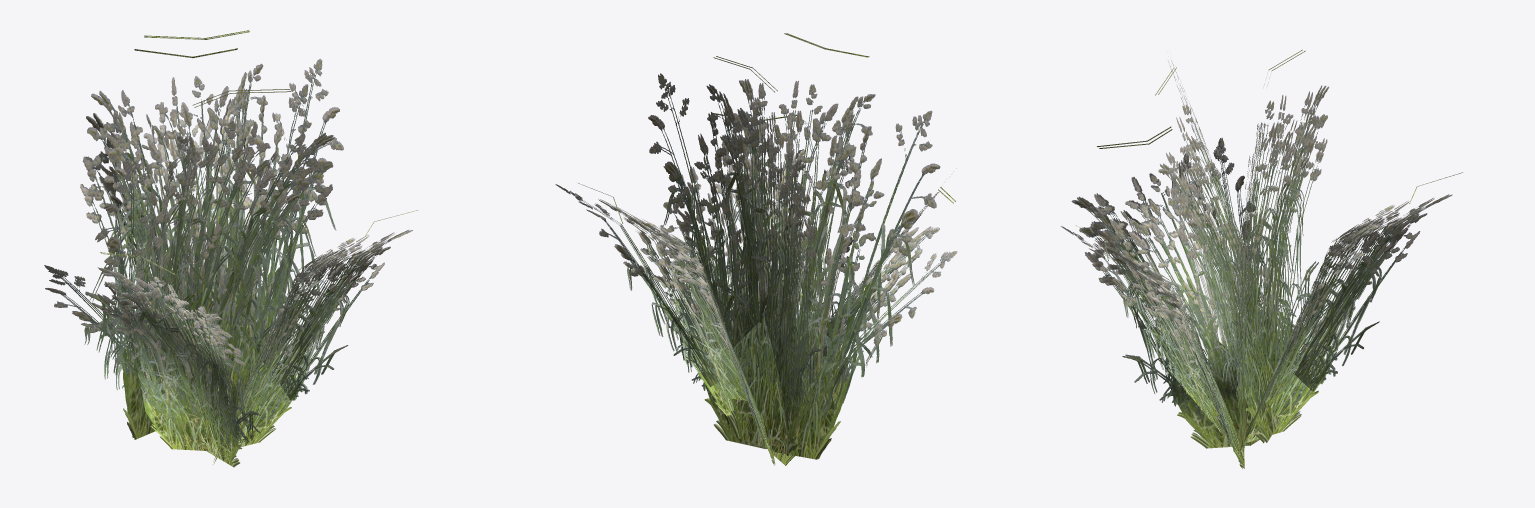
Rendered from grassweed06.fbx.
The picture shows the model from 3 angles, left to right: view 1: azimuth 30°, elevation 25°; view 2: azimuth 150°, elevation 25°; view 3: azimuth 270°, elevation 25°; orthographic projection. The views are drawn at different scales.
Visible parts, largest first — view 1: grassweed06; view 2: grassweed06; view 3: grassweed06.
Boxes of the visible parts, <box> form: grassweed06: <box>44,30,417,467</box>; grassweed06: <box>555,33,957,465</box>; grassweed06: <box>1060,49,1462,468</box>.
Bounding box in the file's own units: 66.71 × 63.1 × 75.57.
